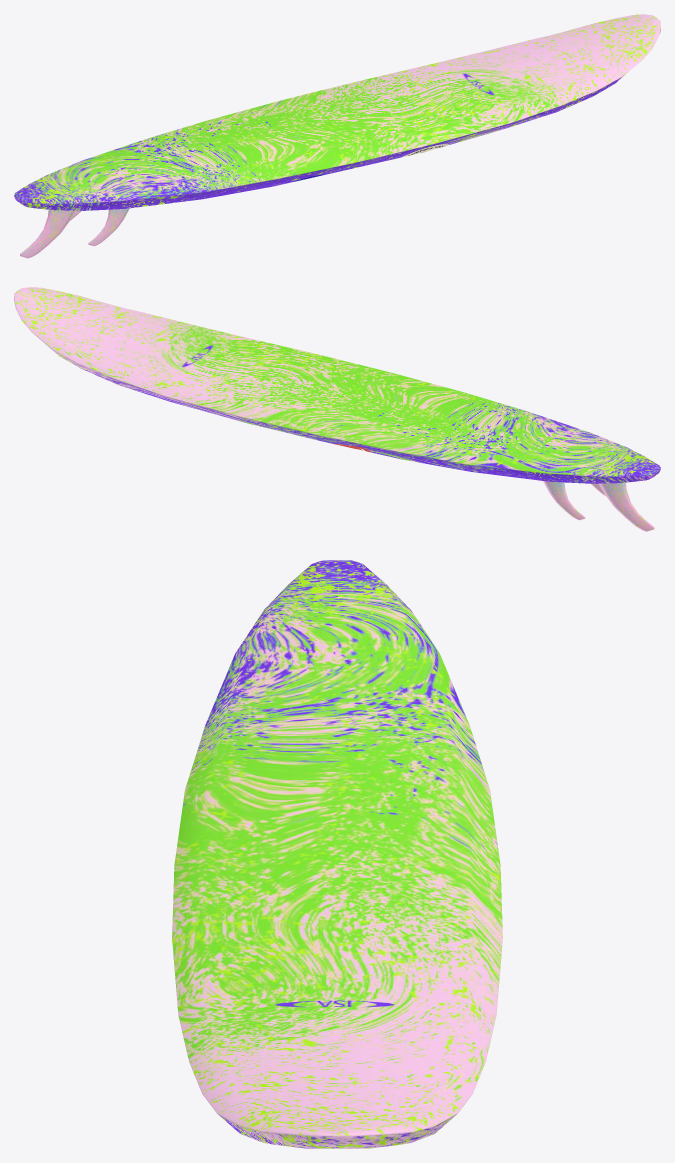
Rendered from ISA.glb.
3 views of the same model, one above another, from view 1: azimuth 30°, elevation 25°; view 2: azimuth 150°, elevation 25°; view 3: azimuth 270°, elevation 25° (orthographic). The views are drawn at different scales.
Visible parts, largest first — view 1: SURF; view 2: SURF; view 3: SURF.
Part boxes in pixels (bbox=[...]): SURF: bbox=[14, 14, 660, 258]; SURF: bbox=[14, 287, 660, 531]; SURF: bbox=[172, 560, 502, 1148].
Bounding box in the file's own units: 123 × 16.06 × 27.48.
1 material, 1 textured.
